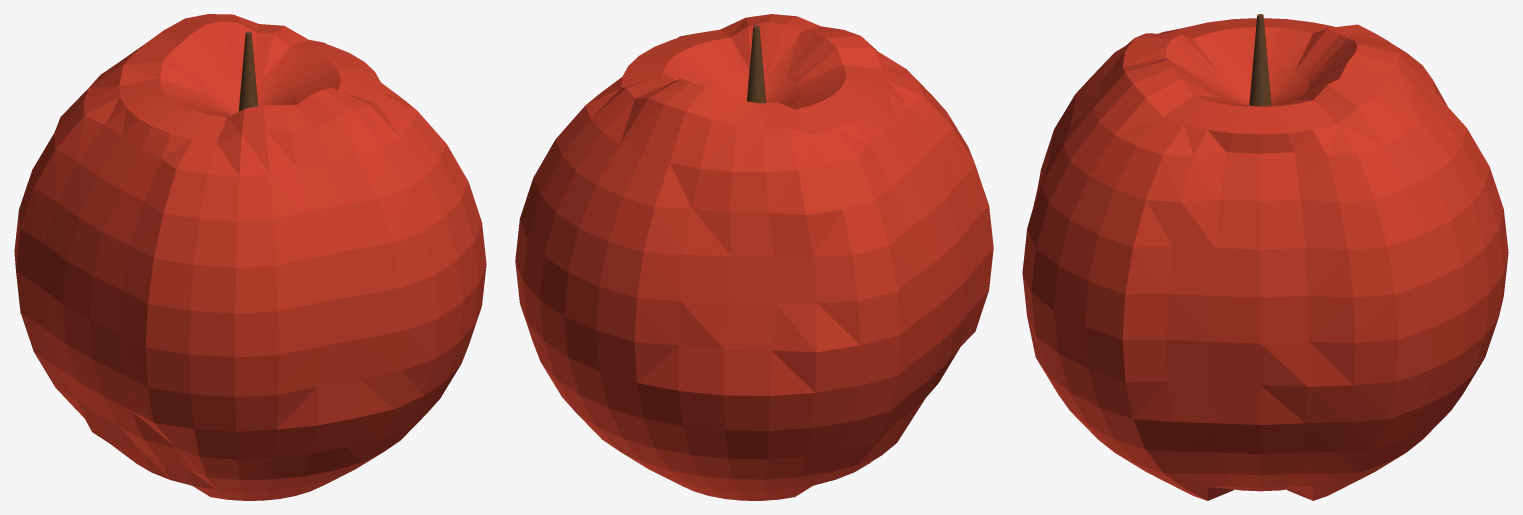
File: appul.dae
The picture shows the model from 3 angles, left to right: view 1: azimuth 30°, elevation 25°; view 2: azimuth 150°, elevation 25°; view 3: azimuth 270°, elevation 25°; orthographic projection. The views are drawn at different scales.
Visible parts, largest first — view 1: Sphere, Cylinder; view 2: Sphere, Cylinder; view 3: Sphere, Cylinder.
Boxes of the visible parts, x1,y1,x2,y2 form: Sphere: [14, 14, 486, 500]; Cylinder: [238, 31, 257, 111]; Sphere: [515, 14, 993, 500]; Cylinder: [746, 25, 766, 103]; Sphere: [1022, 18, 1508, 500]; Cylinder: [1249, 14, 1271, 105].
Bounding box in the file's own units: 1.79 × 1.96 × 2.03.
